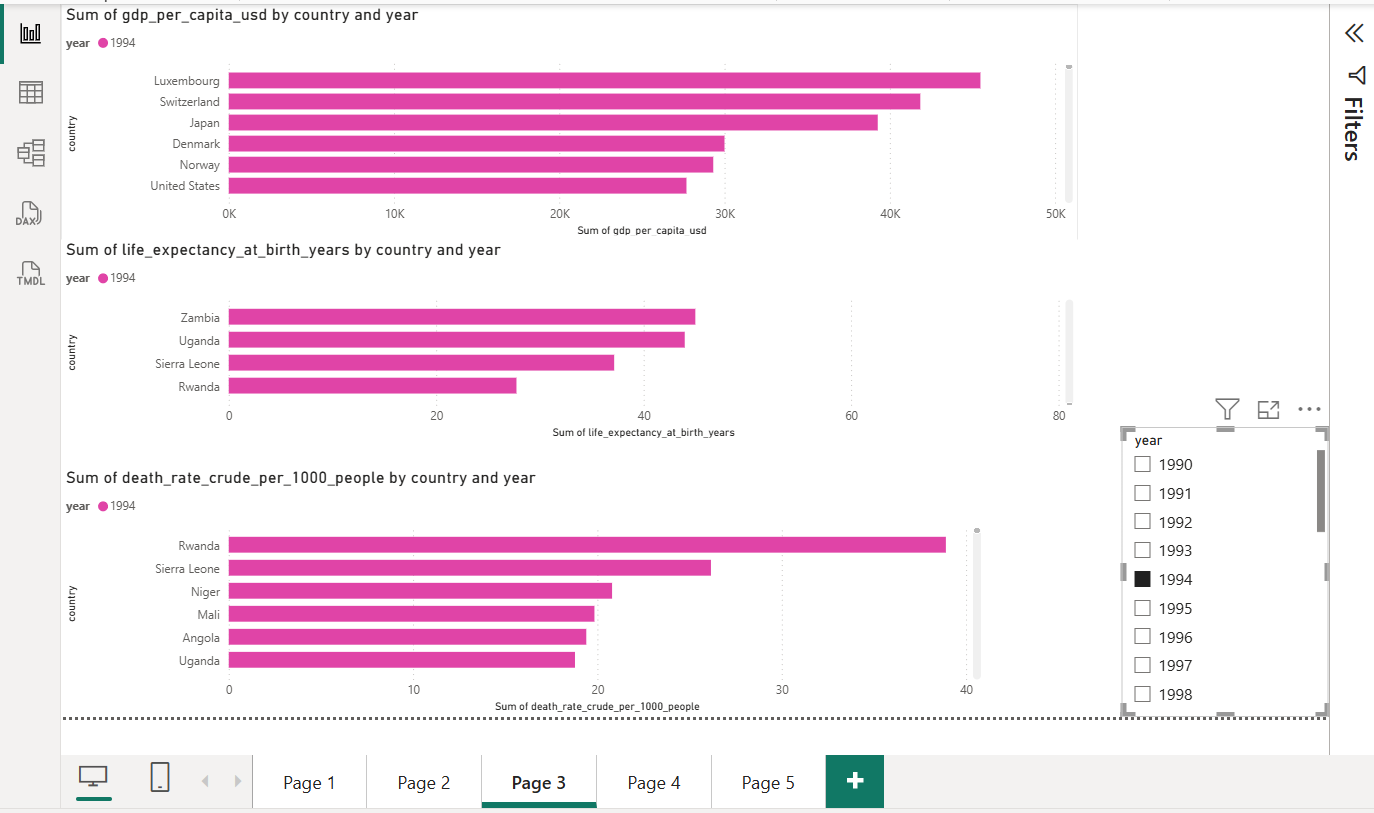

The dashboard page shown, as its layout file describes it:
{"tool":"powerbi","page":{"name":"Page 3","canvas":[1280,720],"ordinal":2},"visuals":[{"type":"barChart","fields":{"Category":["data_cleaned_with_clusters.country"],"Series":["data_cleaned_with_clusters.year"],"Y":["Sum(data_cleaned_with_clusters.gdp_per_capita_usd)"]},"box":[0,0,1026.2,238.6],"z":0},{"type":"barChart","fields":{"Category":["data_cleaned_with_clusters.country"],"Y":["Sum(data_cleaned_with_clusters.death_rate_crude_per_1000_people)"],"Series":["data_cleaned_with_clusters.year"]},"box":[0,468.3,933.3,251.7],"z":1000},{"type":"barChart","fields":{"Category":["data_cleaned_with_clusters.country"],"Y":["Sum(data_cleaned_with_clusters.life_expectancy_at_birth_years)"],"Series":["data_cleaned_with_clusters.year"]},"box":[0,238.3,1026.7,205],"z":2000},{"type":"slicer","fields":{"Values":["data_cleaned_with_clusters.year"]},"box":[1070,426.7,210,293.3],"z":3000}]}

Visuals, with their boxes on the page's 1280x720 design canvas (x1, y1, x2, y2). These are canvas units, not pixel positions in the 1374x813 screenshot, which may show the page scaled, cropped or inside an application window:
barChart - data_cleaned_with_clusters.country x data_cleaned_with_clusters.year: [0,0,1026,239]
barChart - data_cleaned_with_clusters.country x Sum(data_cleaned_with_clusters.death_rate_crude_per_1000_people): [0,468,933,720]
barChart - data_cleaned_with_clusters.country x Sum(data_cleaned_with_clusters.life_expectancy_at_birth_years): [0,238,1027,443]
slicer - data_cleaned_with_clusters.year: [1070,427,1280,720]
